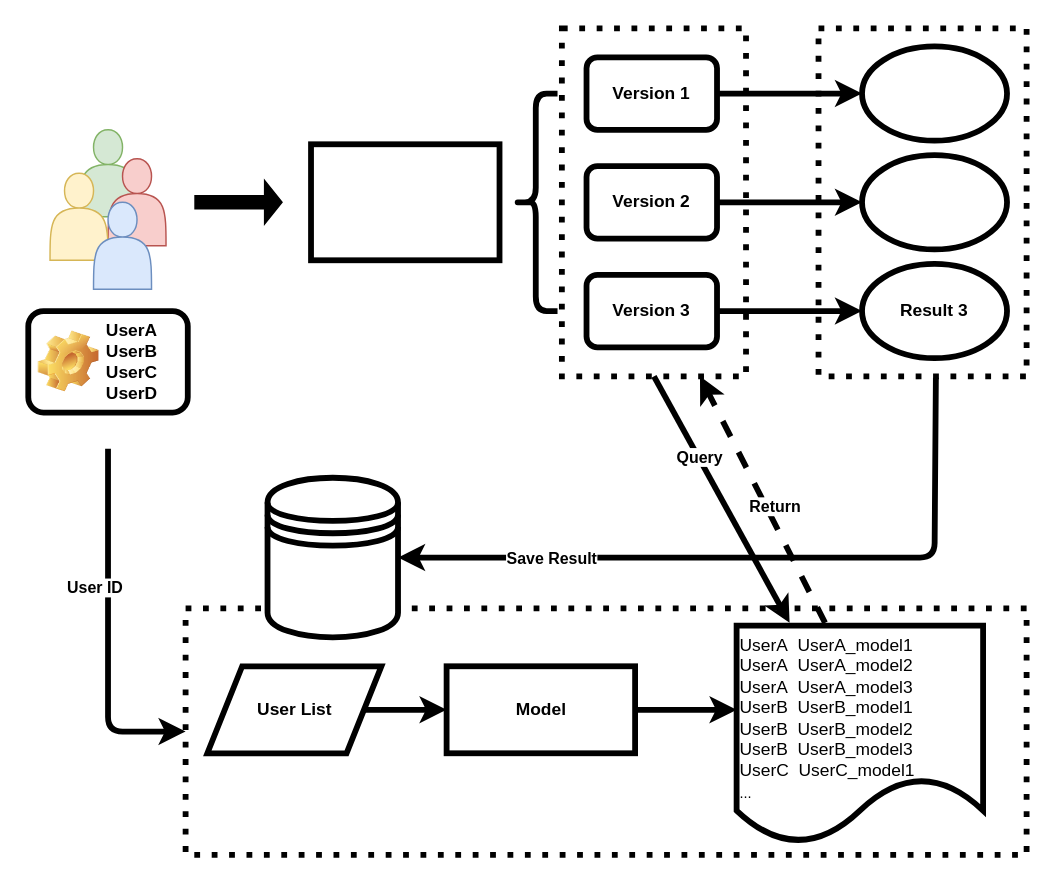
This 1054x882 diagram has some shape labels left out. The shapes that lost their labels are listed below. From the top down, each one's box as (x1, y1, x2, y2) in pixels, then its label:
(858, 43, 1009, 143): Result 1
(307, 141, 502, 262): Dispatcher
(858, 152, 1009, 252): Result 2
(264, 474, 400, 639): Database
